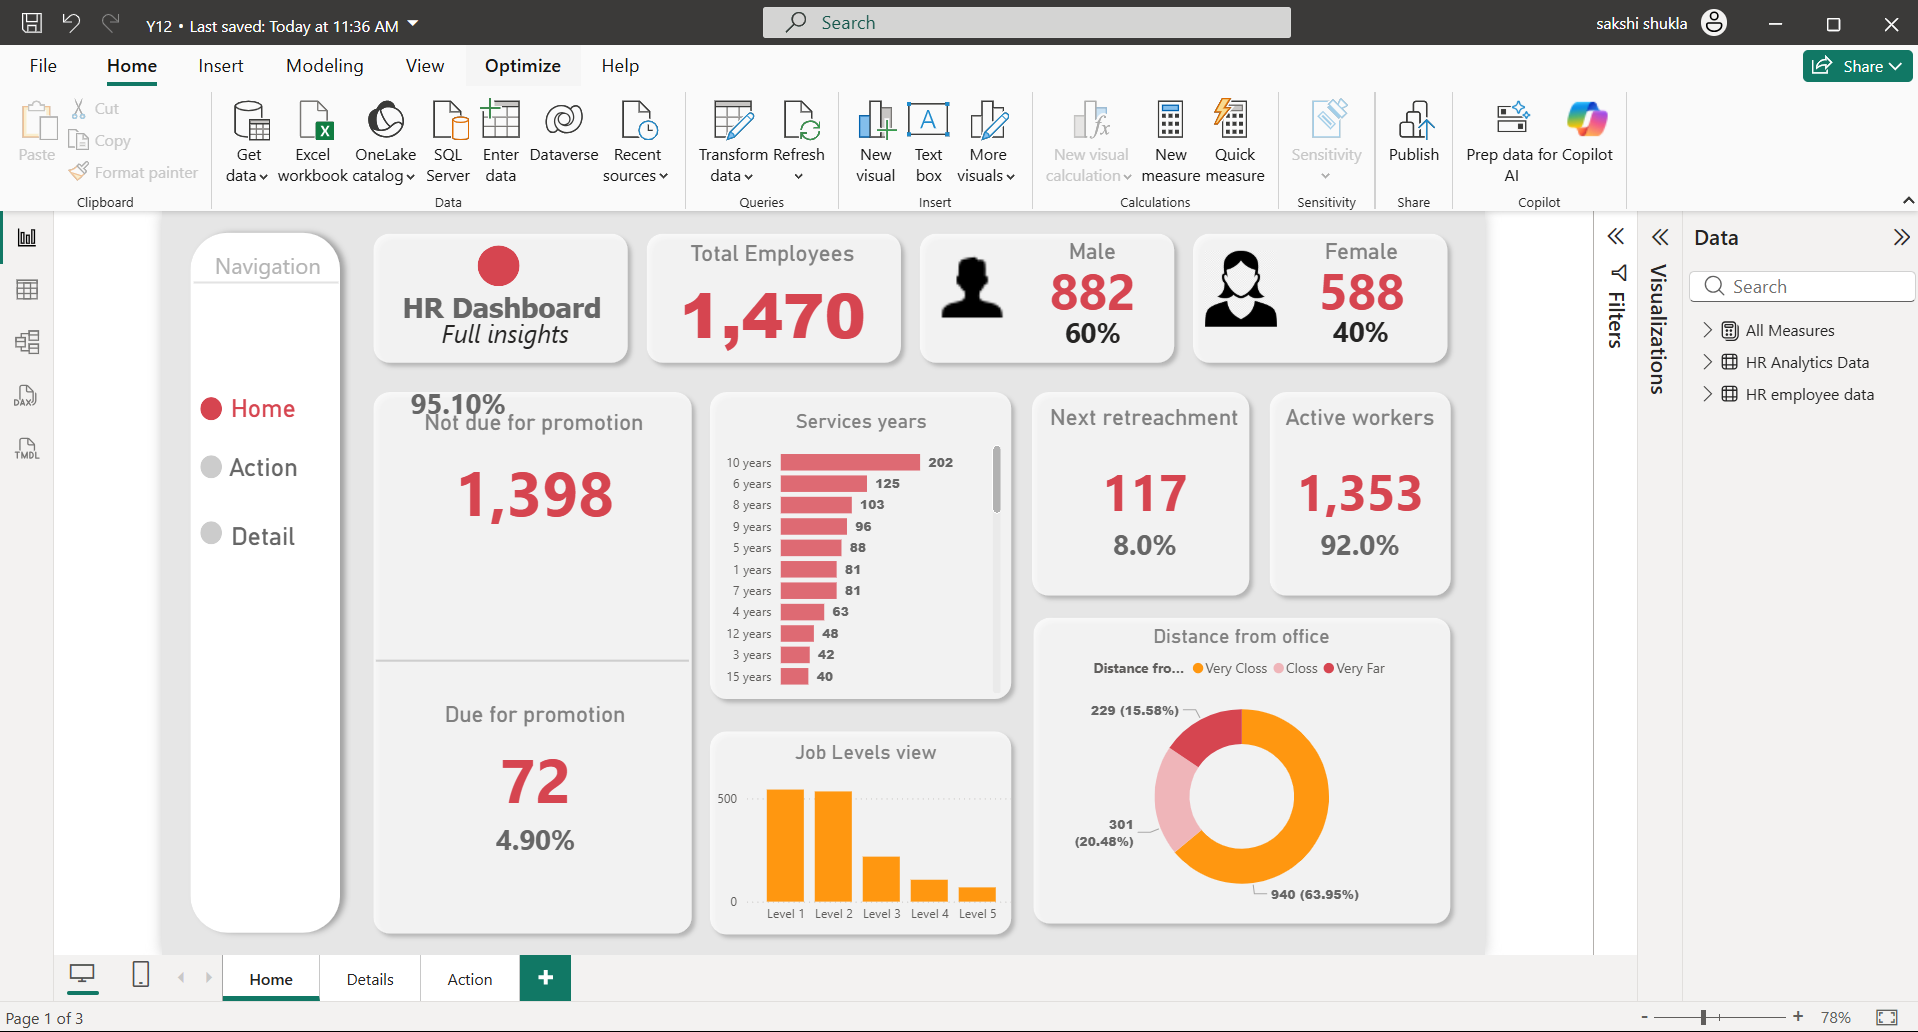

The dashboard page shown, as its layout file describes it:
{"tool":"powerbi","page":{"name":"Home","canvas":[1280,720],"ordinal":0},"visuals":[{"type":"shape","box":[16.5,9.6,166.5,699.2],"z":0},{"type":"shape","box":[195.4,12.4,264.3,143.1],"z":1000},{"type":"shape","box":[459.7,12.4,264.3,143.1],"z":2000},{"type":"shape","box":[724,12.4,264.3,143.1],"z":3000},{"type":"shape","box":[988.2,12.4,264.3,143.1],"z":4000},{"type":"shape","box":[195.4,166.5,326.2,542.3],"z":5000},{"type":"shape","box":[521.6,166.2,309.7,315.2],"z":6000},{"type":"shape","box":[521.6,494.1,309.7,214.7],"z":7000},{"type":"shape","box":[834.8,384.2,421.6,314.1],"z":8000},{"type":"shape","box":[833.6,166.7,228.3,215],"z":9000},{"type":"shape","box":[1063.1,166.7,193.3,215],"z":10000},{"type":"textbox","box":[209.7,71.2,238.7,51.4],"z":11000},{"type":"textbox","box":[36.9,33,130.5,51.4],"z":12000},{"type":"textbox","box":[209.7,97.6,251.9,55.4],"z":13000},{"type":"shape","box":[305.9,33,40.9,39.6],"z":14000},{"type":"card","title":"Total Employees","fields":{"Values":["All Measures.Total Emp"]},"box":[468,27.5,246.4,112.9],"z":15000},{"type":"card","title":"Male","fields":{"Values":["All Measures.Male"]},"box":[814.8,26.2,170.7,75.7],"z":16000},{"type":"card","fields":{"Values":["All Measures.Male %"]},"box":[834.1,90.8,132.1,55.1],"z":17000},{"type":"card","title":"Female","fields":{"Values":["All Measures.Female"]},"box":[1068.7,26.2,183.1,75.7],"z":18000},{"type":"card","fields":{"Values":["All Measures.Female %"]},"box":[1083.9,90.8,152.8,53.7],"z":19000},{"type":"image","box":[736.3,26.2,95,90.8],"z":20000},{"type":"actionButton","title":"Home","box":[27.8,176.4,140.1,30.2],"z":21000},{"type":"image","box":[1004.7,33,79.8,84],"z":22000},{"type":"actionButton","title":"Action","box":[27.7,233.4,139.8,56.7],"z":23000},{"type":"card","title":"Active workers","fields":{"Values":["All Measures.On service"]},"box":[1058.3,186,203,142.6],"z":24000},{"type":"actionButton","title":"Detail","box":[27.7,300.7,139.8,58],"z":25000},{"type":"card","fields":{"Values":["All Measures.% Active workers"]},"box":[1082.4,296,153.4,53.2],"z":26000},{"type":"card","title":"Next retreachment","fields":{"Values":["All Measures.Due for retirment"]},"box":[843.2,186,215,142.6],"z":27000},{"type":"card","fields":{"Values":["All Measures.%Due for retirment"]},"box":[865,296,171.5,53.2],"z":28000},{"type":"columnChart","title":"Job Levels view","fields":{"Category":["HR Analytics Data.Job Level"],"Y":["All Measures.Total Emp"]},"box":[531.3,512,300,185.8],"z":29000},{"type":"barChart","title":"Services years","fields":{"Category":["HR Analytics Data.Total working Years"],"Y":["All Measures.Total Emp"]},"box":[536.4,192.1,280.3,280.3],"z":30000},{"type":"donutChart","title":"Distance from office","fields":{"Category":["HR Analytics Data.Distance from office"],"Y":["All Measures.Total Emp"]},"box":[840.8,399.9,408.3,282.7],"z":31000},{"type":"card","title":"Not due for promotion","fields":{"Values":["All Measures.Not Due"]},"box":[207.8,192.1,303.2,130.5],"z":32000},{"type":"card","title":"Due for promotion","fields":{"Values":["All Measures.Due for promotion"]},"box":[209,473.8,303.2,119.6],"z":33000},{"type":"shape","box":[206.6,427.7,303.2,14.5],"z":34000},{"type":"card","fields":{"Values":["All Measures.% Not due for promotion"]},"box":[283.5,309.7,152.8,53.7],"z":35000},{"type":"card","fields":{"Values":["All Measures.% Due for promotion"]},"box":[285.1,582.5,152.2,53.2],"z":36000},{"type":"shape","box":[36.9,180.7,21.1,22.4],"z":37000},{"type":"shape","box":[36.9,236,21.1,22.4],"z":38000},{"type":"shape","box":[36.9,300.7,21.1,22.4],"z":39000},{"type":"shape","box":[30.2,61.6,140.1,15.7],"z":41000}]}

Visuals, with their boxes on the page's 1280x720 design canvas (x1, y1, x2, y2). These are canvas units, not pixel positions in the 1918x1032 screenshot, which may show the page scaled, cropped or inside an application window:
shape: box=[16, 10, 183, 709]
shape: box=[195, 12, 460, 156]
shape: box=[460, 12, 724, 156]
shape: box=[724, 12, 988, 156]
shape: box=[988, 12, 1252, 156]
shape: box=[195, 166, 522, 709]
shape: box=[522, 166, 831, 481]
shape: box=[522, 494, 831, 709]
shape: box=[835, 384, 1256, 698]
shape: box=[834, 167, 1062, 382]
shape: box=[1063, 167, 1256, 382]
textbox: box=[210, 71, 448, 123]
textbox: box=[37, 33, 167, 84]
textbox: box=[210, 98, 462, 153]
shape: box=[306, 33, 347, 73]
"Total Employees" card: box=[468, 28, 714, 140]
"Male" card: box=[815, 26, 986, 102]
card - All Measures.Male %: box=[834, 91, 966, 146]
"Female" card: box=[1069, 26, 1252, 102]
card - All Measures.Female %: box=[1084, 91, 1237, 144]
image: box=[736, 26, 831, 117]
"Home" actionButton: box=[28, 176, 168, 207]
image: box=[1005, 33, 1084, 117]
"Action" actionButton: box=[28, 233, 168, 290]
"Active workers" card: box=[1058, 186, 1261, 329]
"Detail" actionButton: box=[28, 301, 168, 359]
card - All Measures.% Active workers: box=[1082, 296, 1236, 349]
"Next retreachment" card: box=[843, 186, 1058, 329]
card - All Measures.%Due for retirment: box=[865, 296, 1036, 349]
"Job Levels view" columnChart: box=[531, 512, 831, 698]
"Services years" barChart: box=[536, 192, 817, 472]
"Distance from office" donutChart: box=[841, 400, 1249, 683]
"Not due for promotion" card: box=[208, 192, 511, 323]
"Due for promotion" card: box=[209, 474, 512, 593]
shape: box=[207, 428, 510, 442]
card - All Measures.% Not due for promotion: box=[284, 310, 436, 363]
card - All Measures.% Due for promotion: box=[285, 582, 437, 636]
shape: box=[37, 181, 58, 203]
shape: box=[37, 236, 58, 258]
shape: box=[37, 301, 58, 323]
shape: box=[30, 62, 170, 77]
